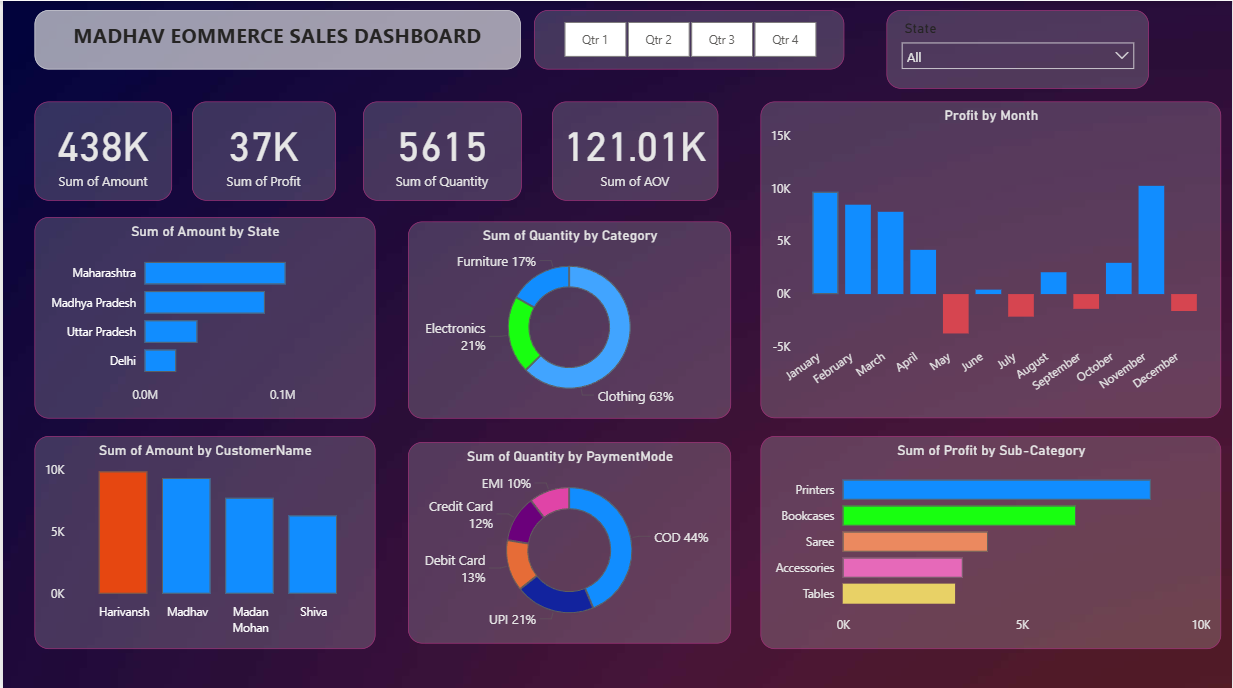

What the dashboard file says about the page in this screenshot:
{"tool":"powerbi","page":{"name":"Page 1","canvas":[1280,720],"ordinal":0},"visuals":[{"type":"textbox","box":[33.3,10,506.7,61.7],"z":0},{"type":"columnChart","title":" Profit by Month","fields":{"Category":["Orders.Order Date.Variation.Date Hierarchy.Month"],"Y":["Sum(Details.Profit)"]},"box":[790,105,480,330],"z":1000},{"type":"barChart","fields":{"Category":["Details.Sub-Category"],"Y":["Sum(Details.Profit)"]},"box":[790,453.3,480,221.7],"z":2000},{"type":"donutChart","fields":{"Category":["Details.Category"],"Y":["Sum(Details.Quantity)"]},"box":[421.7,230,336.7,205],"z":3000},{"type":"donutChart","fields":{"Y":["Sum(Details.Quantity)"],"Category":["Details.PaymentMode"]},"box":[421.7,460,336.7,210],"z":4000},{"type":"card","fields":{"Values":["Sum(Details.Amount)"]},"box":[33.3,105,143.3,103.3],"z":5000},{"type":"card","fields":{"Values":["Sum(Details.Quantity)"]},"box":[375,105,165,103.3],"z":6000},{"type":"card","fields":{"Values":["Sum(Details.Profit)"]},"box":[196.7,105,150,103.3],"z":7000},{"type":"card","fields":{"Values":["Sum(Details.AOV)"]},"box":[571.7,105,173.3,103.3],"z":8000},{"type":"barChart","fields":{"Category":["Orders.State"],"Y":["Sum(Details.Amount)"]},"box":[33.3,225,355,210],"z":9000},{"type":"columnChart","fields":{"Category":["Orders.CustomerName"],"Y":["Sum(Details.Amount)"]},"box":[33.3,453.3,355,221.7],"z":10000},{"type":"slicer","fields":{"Values":["Orders.Order Date.Variation.Date Hierarchy.Quarter"]},"box":[553.3,10,323.3,61.7],"z":11000},{"type":"slicer","fields":{"Values":["Orders.State"]},"box":[920,10,273.3,81.7],"z":12000}]}

Visuals, with their boxes in screenshot pixels (x1, y1, x2, y2), scaled from the page's 1280x720 canvas onto the 1233x688 screenshot:
textbox: bbox=[32, 10, 520, 69]
" Profit by Month" columnChart: bbox=[761, 100, 1223, 416]
barChart - Details.Sub-Category x Sum(Details.Profit): bbox=[761, 433, 1223, 645]
donutChart - Details.Category x Sum(Details.Quantity): bbox=[406, 220, 731, 416]
donutChart - Sum(Details.Quantity) x Details.PaymentMode: bbox=[406, 440, 731, 640]
card - Sum(Details.Amount): bbox=[32, 100, 170, 199]
card - Sum(Details.Quantity): bbox=[361, 100, 520, 199]
card - Sum(Details.Profit): bbox=[189, 100, 334, 199]
card - Sum(Details.AOV): bbox=[551, 100, 718, 199]
barChart - Orders.State x Sum(Details.Amount): bbox=[32, 215, 374, 416]
columnChart - Orders.CustomerName x Sum(Details.Amount): bbox=[32, 433, 374, 645]
slicer - Orders.Order Date.Variation.Date Hierarchy.Quarter: bbox=[533, 10, 844, 69]
slicer - Orders.State: bbox=[886, 10, 1149, 88]
